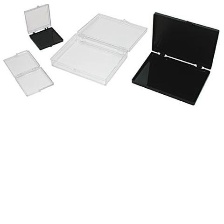plastic_box: (128, 7, 224, 109), (46, 7, 153, 90), (0, 45, 57, 100), (19, 0, 68, 55)
